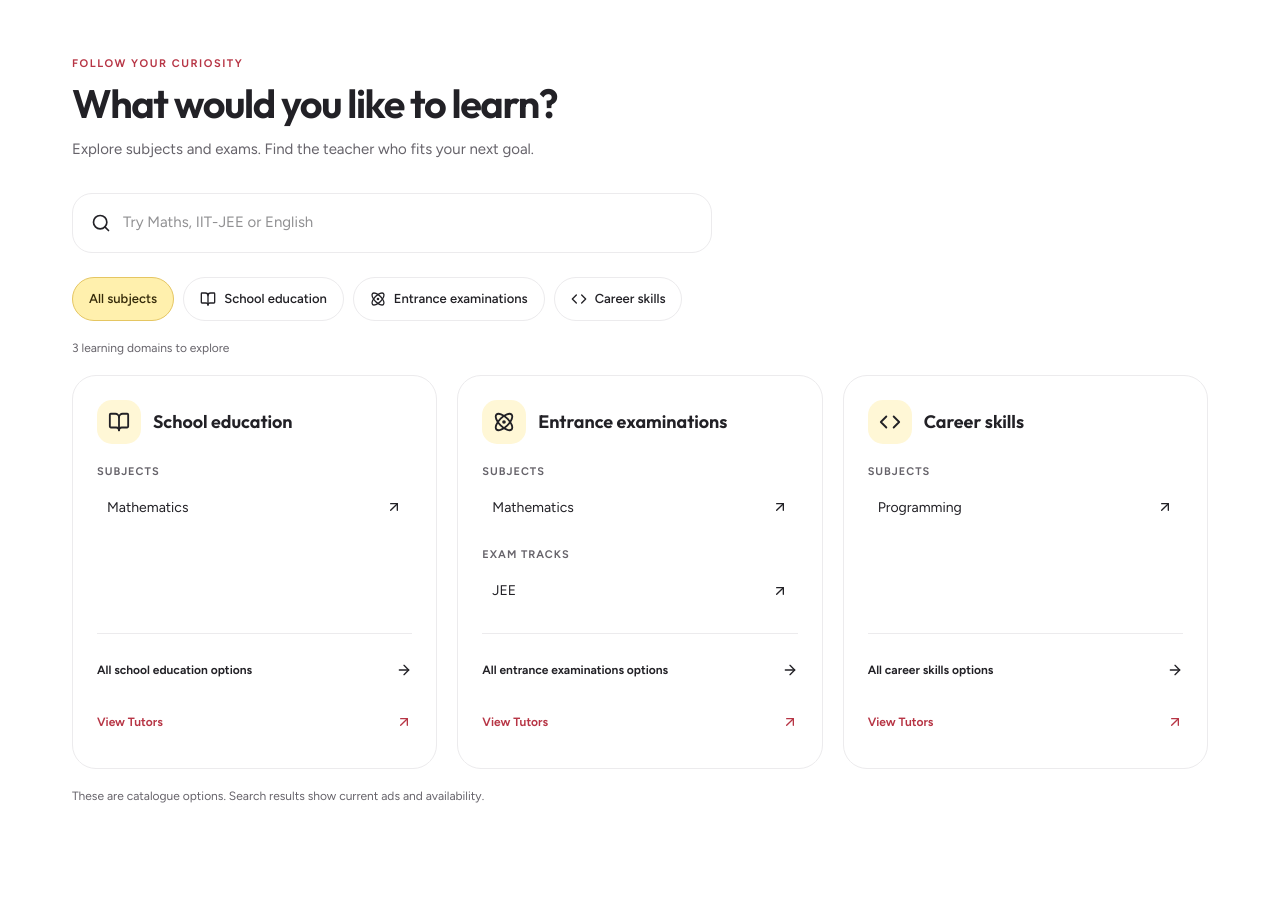
Test: matches aliases immediately and separates a selected domain from search with a complete reset
Later steps or results of the test are not shown.
Type "  IIT - JEE  " into the search field named "Search subjects or exams".
click(408, 223); type("  IIT - JEE  ")  # box [123,203,693,242]
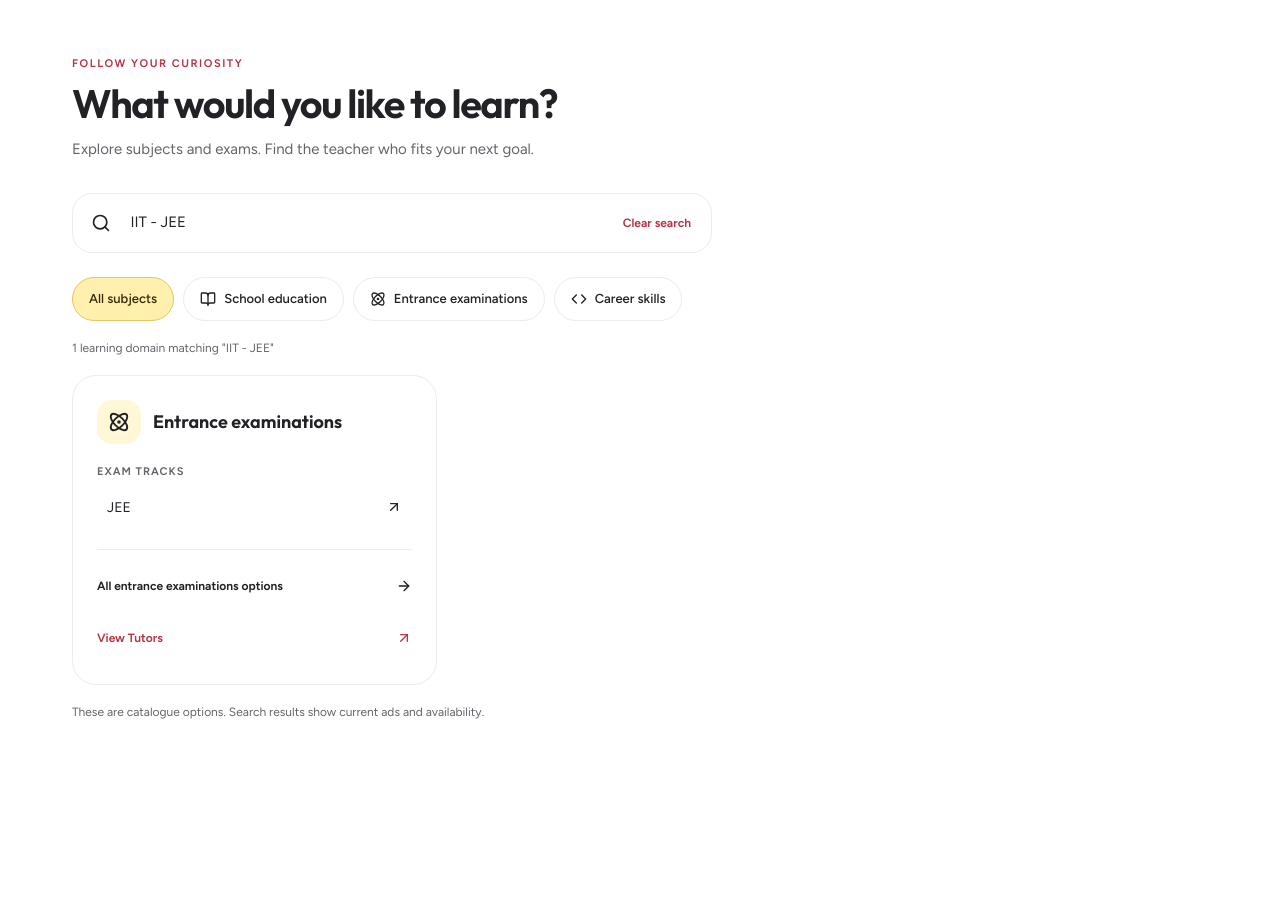
Expected: the link "JEE" is shown, [107,499,402,516]
Click the button "Career skills".
click(618, 299)  # box [554,277,682,321]
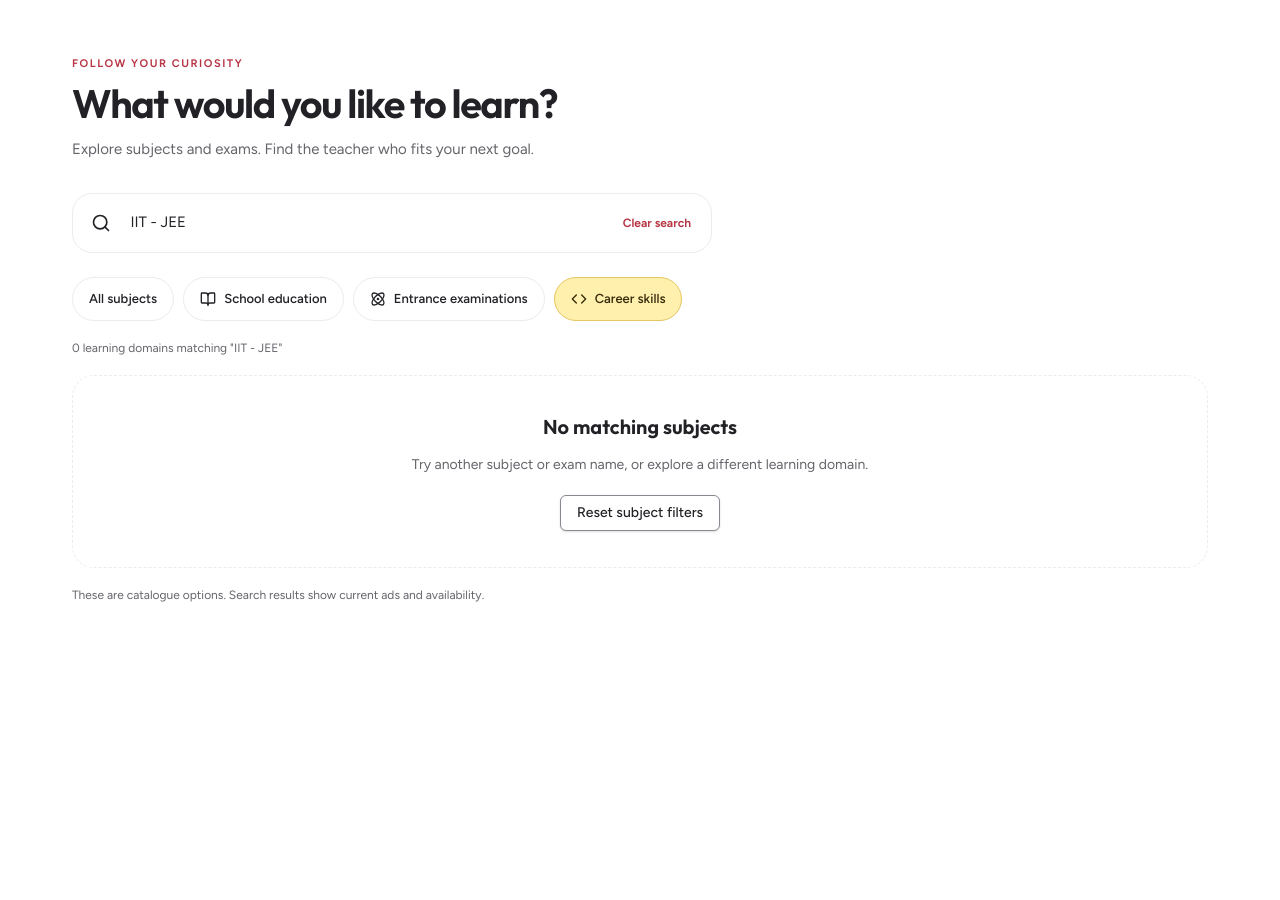
Now the heading "No matching subjects" is shown, box [543,414,737,439]
Click the button "Reset subject filters".
click(640, 513)  # box [560,495,720,531]
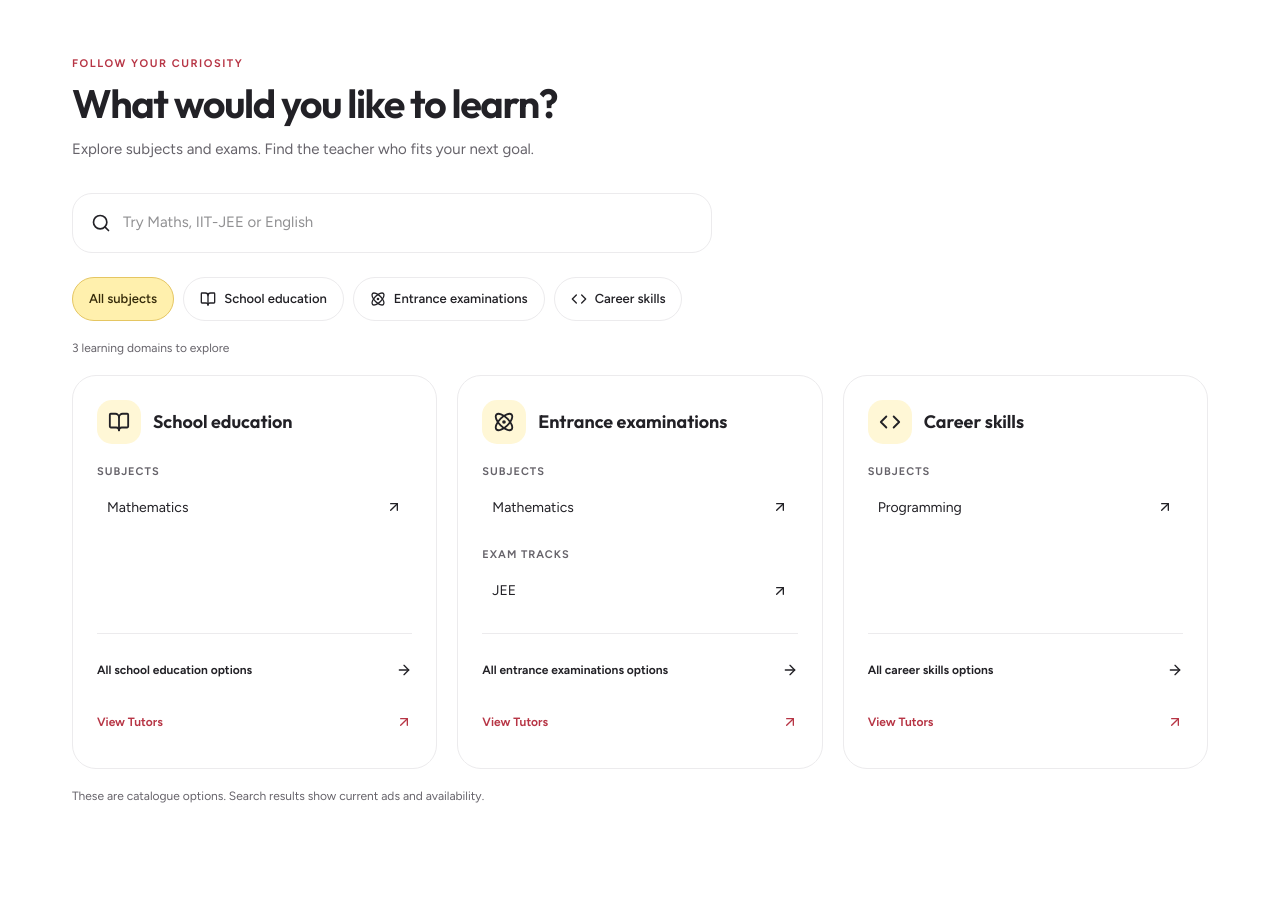
Now the search field named "Search subjects or exams" is empty, box [123,203,693,242]
